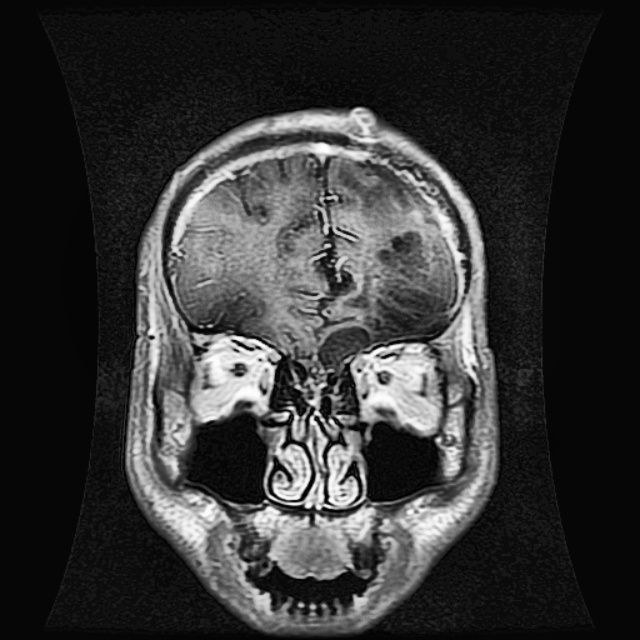Meningioma: (315, 228, 453, 370)
